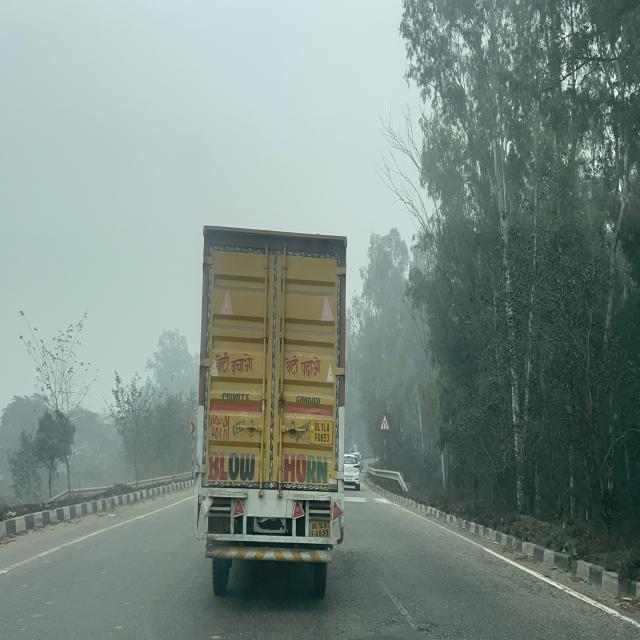NARROW_ROAD_AHEAD: (380, 414, 390, 431)
TURN_RIGHT: (190, 421, 196, 435)
